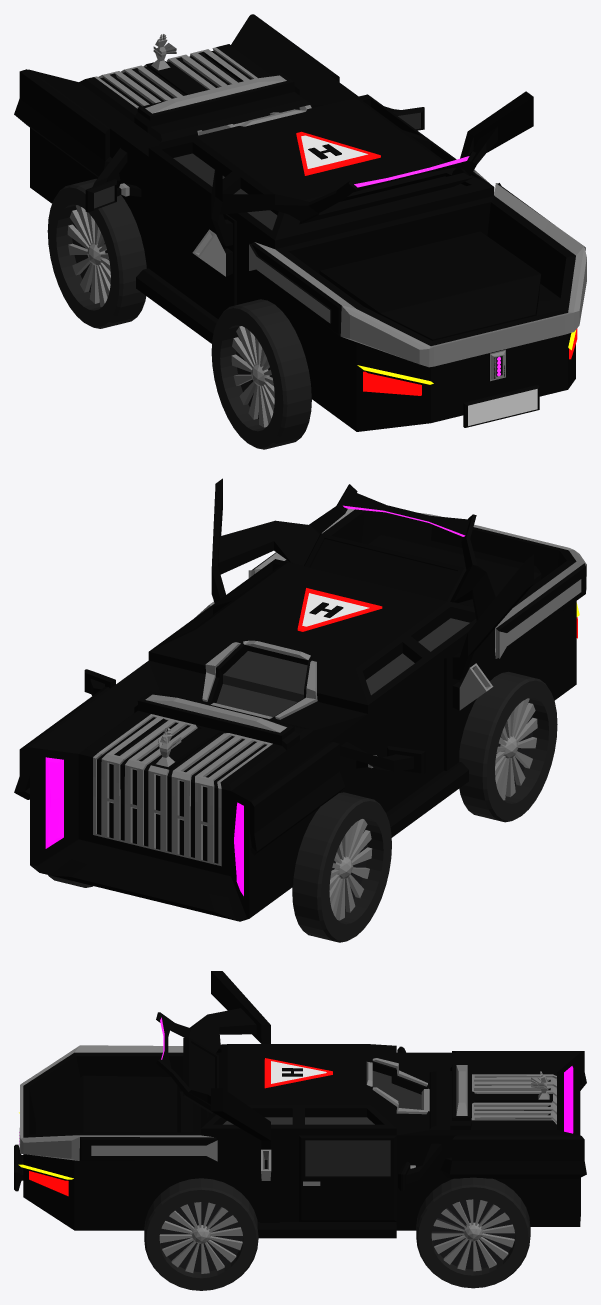
The model's file is RolllsRoiiiiisssJENKINS.fbx.
3 views of the same model, one above another, from view 1: azimuth 30°, elevation 25°; view 2: azimuth 150°, elevation 25°; view 3: azimuth 270°, elevation 25° (orthographic). The views are drawn at different scales.
Visible parts, largest first — view 1: Icosphere; view 2: Icosphere; view 3: Icosphere.
Part boxes in pixels (x1,y1,x2,y2): Icosphere: (14,14,586,449); Icosphere: (14,478,586,942); Icosphere: (14,971,586,1290).
Bounding box in the file's own units: 309 × 238 × 585.
